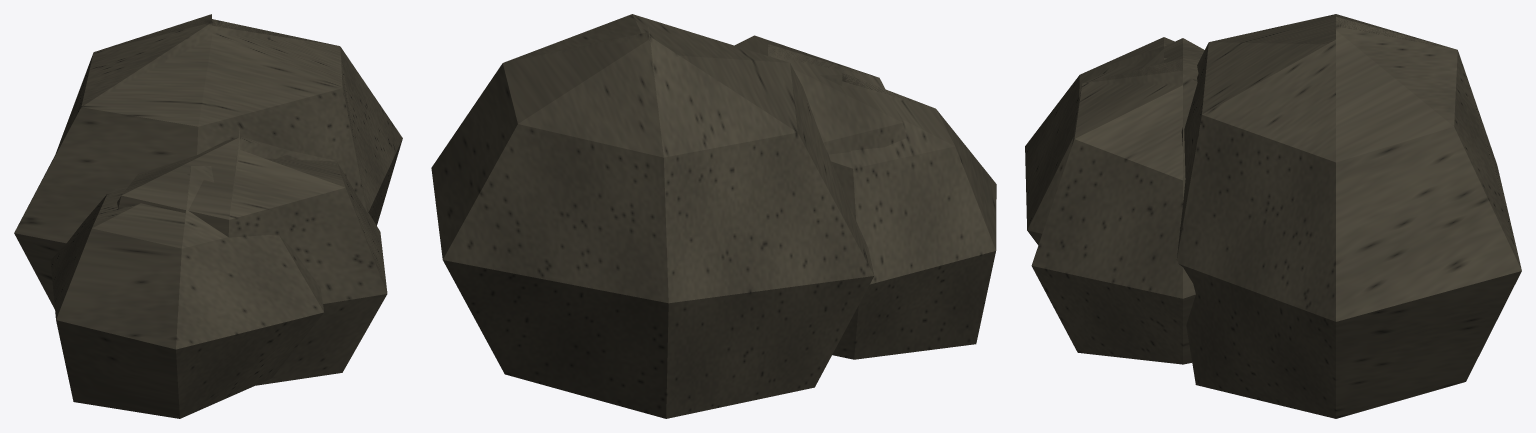
The model's file is PROP-CD51229BED7C_lod2.glb.
3 renders of one model, left to right at view 1: azimuth 30°, elevation 25°; view 2: azimuth 150°, elevation 25°; view 3: azimuth 270°, elevation 25°, orthographic. The views are drawn at different scales.
Visible parts, largest first — view 1: rock.008; view 2: rock.008; view 3: rock.008.
Boxes of the visible parts, <box> form: rock.008: <box>14,14,402,418</box>; rock.008: <box>431,14,996,418</box>; rock.008: <box>1025,14,1521,418</box>.
Size of the model in its own units: 1.26 by 0.8026 by 1.11.
1 material, 1 textured.
